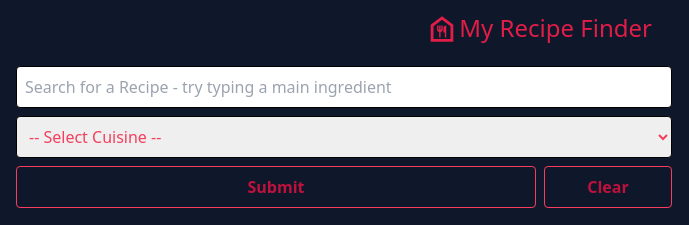
Test: User Actions › search state is cleared on button click
The image size is (689, 225).
Simulate user input
Type "Pizza" into the field with placeholder "Search for a Recipe - try typing a main ingredient". click: (344, 87)
box: [16,66,672,108]
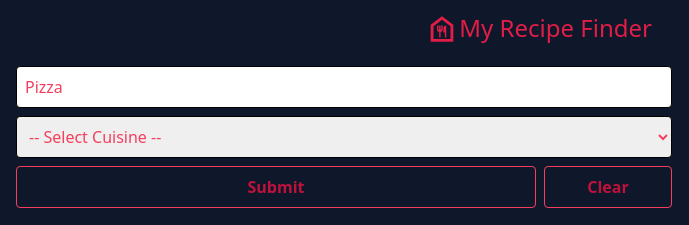
Simulate button click
Click the button "Clear". click: click(608, 187)
box: [544,166,672,208]
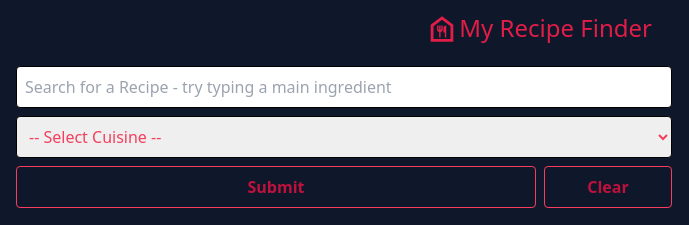
expect the field with placeholder "Search for a Recipe - try typing a main ingredient" is empty: met, box [16,66,672,108]
